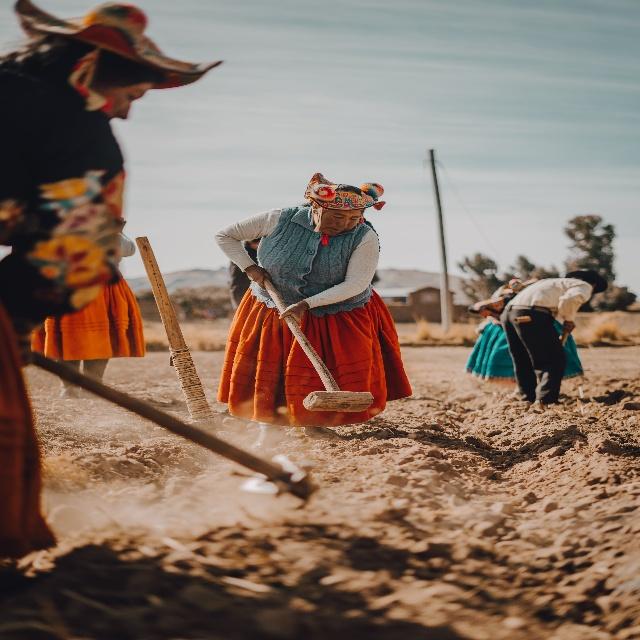Sin_guantes: (277, 300, 304, 326), (247, 264, 272, 289), (561, 319, 575, 334)
